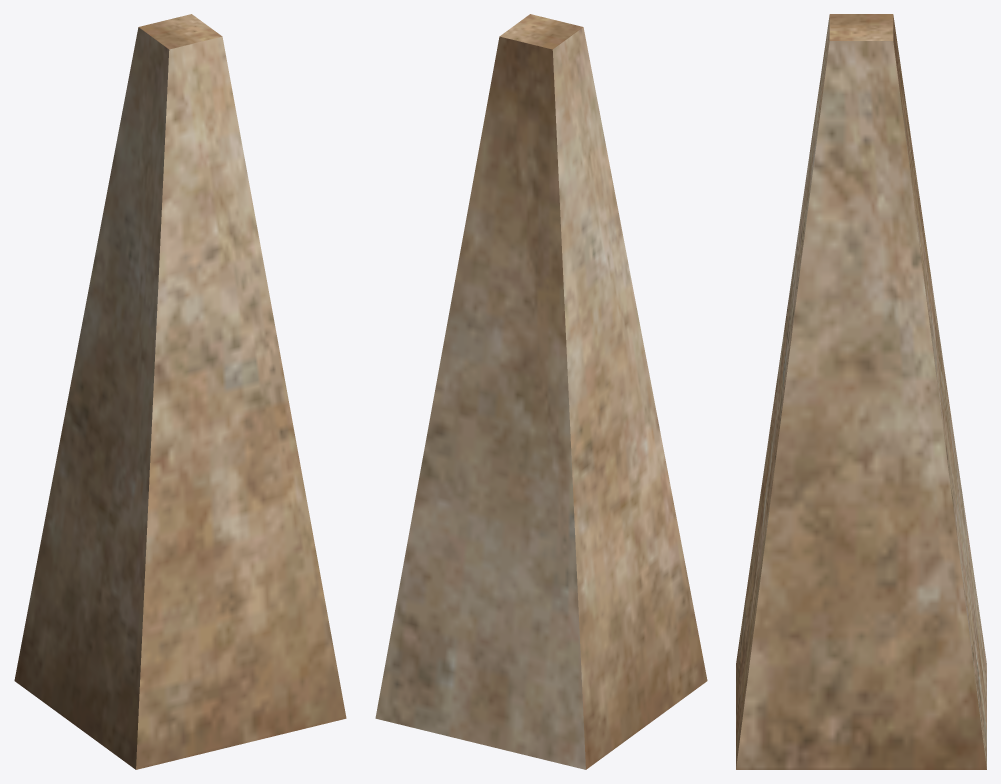
File: thm_tato_jnkshp_pillar_l3.fbx
3 renders of one model, left to right at view 1: azimuth 30°, elevation 25°; view 2: azimuth 150°, elevation 25°; view 3: azimuth 270°, elevation 25°, orthographic. The views are drawn at different scales.
Parts seen in each view (by area): view 1: mesh_node; view 2: mesh_node; view 3: mesh_node.
Boxes of the visible parts, x1=… form: mesh_node: x1=14, y1=14, x2=346, y2=769; mesh_node: x1=375, y1=14, x2=707, y2=769; mesh_node: x1=736, y1=14, x2=986, y2=769.
Size of the model in its own units: 1.79 by 5.44 by 1.79.
1 material, 1 textured.
